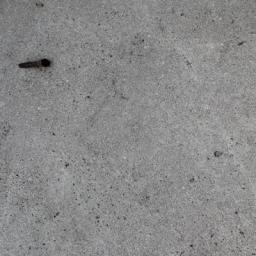FOD: (17, 56, 54, 71)
